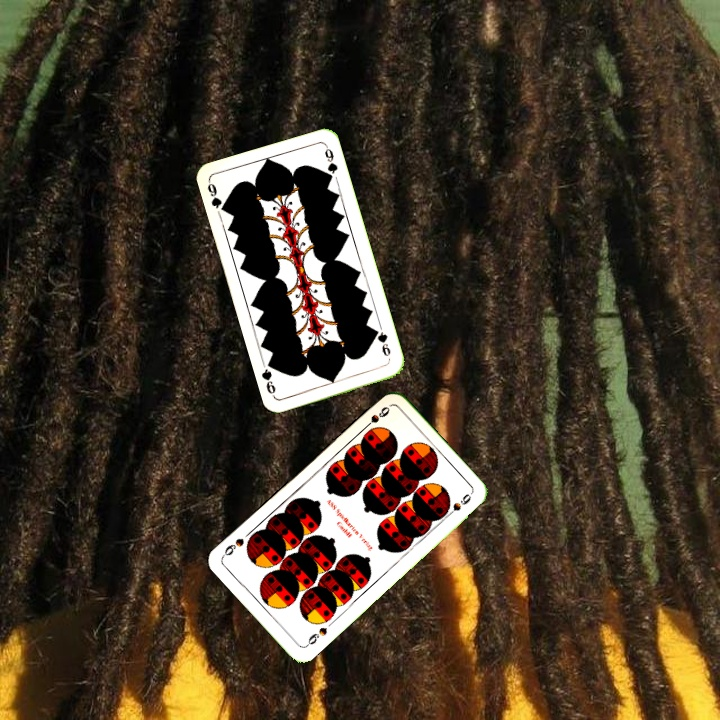G9: (203, 178, 230, 215), (370, 325, 393, 359)
S9: (359, 402, 392, 435), (301, 623, 330, 650)
